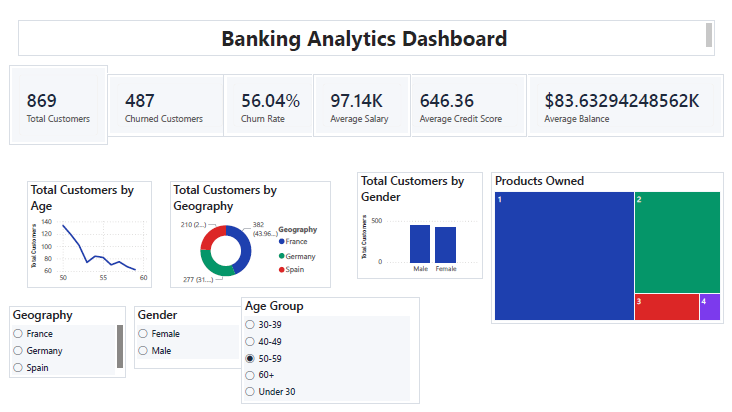

The page's visual inventory and layout, read from the dashboard file:
{"tool":"powerbi","page":{"name":"Executive Overview","canvas":[1280,720],"ordinal":0},"visuals":[{"type":"cardVisual","fields":{"Data":["BankCustomers.Total Customers"]},"box":[0,112,176,144],"z":0},{"type":"cardVisual","fields":{"Data":["BankCustomers.Churned Customers"]},"box":[176,128,224,112],"z":1000},{"type":"cardVisual","fields":{"Data":["BankCustomers.Churn Rate"]},"box":[384,128,176,112],"z":2000},{"type":"cardVisual","fields":{"Data":["BankCustomers.Average Balance"]},"box":[928,128,352,112],"z":3000},{"type":"cardVisual","fields":{"Data":["BankCustomers.Average Credit Score"]},"box":[704,128,224,112],"z":4000},{"type":"cardVisual","fields":{"Data":["BankCustomers.Average Salary"]},"box":[544,128,176,112],"z":5000},{"type":"lineChart","fields":{"Category":["BankCustomers.Age"],"Y":["BankCustomers.Total Customers"]},"box":[32,320,224,192],"z":6000},{"type":"donutChart","fields":{"Y":["BankCustomers.Total Customers"],"Category":["BankCustomers.Geography"]},"box":[288,320,288,192],"z":7000},{"type":"columnChart","fields":{"Y":["BankCustomers.Total Customers"],"Category":["BankCustomers.Gender"]},"box":[624,304,224,192],"z":8000},{"type":"listSlicer","fields":{"Values":["BankCustomers.Geography"]},"box":[0,544,208,128],"z":9000},{"type":"listSlicer","fields":{"Values":["BankCustomers.Gender"]},"box":[224,544,192,112],"z":10000},{"type":"listSlicer","fields":{"Values":["BankCustomers.Age Group"]},"box":[416,528,320,192],"z":11000},{"type":"treemap","title":"Products Owned","fields":{"Values":["BankCustomers.Total Customers"],"Group":["BankCustomers.NumOfProducts"]},"box":[864,304,416,272],"z":12000},{"type":"textbox","box":[16,32,1248,64],"z":12001}]}

Visuals, with their boxes in screenshot pixels (x1, y1, x2, y2), scaled from the page's 1280x720 canvas onto the 732x412 screenshot:
cardVisual - BankCustomers.Total Customers: box=[0, 64, 101, 146]
cardVisual - BankCustomers.Churned Customers: box=[101, 73, 229, 137]
cardVisual - BankCustomers.Churn Rate: box=[220, 73, 320, 137]
cardVisual - BankCustomers.Average Balance: box=[531, 73, 731, 137]
cardVisual - BankCustomers.Average Credit Score: box=[403, 73, 531, 137]
cardVisual - BankCustomers.Average Salary: box=[311, 73, 412, 137]
lineChart - BankCustomers.Age x BankCustomers.Total Customers: box=[18, 183, 146, 293]
donutChart - BankCustomers.Total Customers x BankCustomers.Geography: box=[165, 183, 329, 293]
columnChart - BankCustomers.Total Customers x BankCustomers.Gender: box=[357, 174, 485, 284]
listSlicer - BankCustomers.Geography: box=[0, 311, 119, 385]
listSlicer - BankCustomers.Gender: box=[128, 311, 238, 375]
listSlicer - BankCustomers.Age Group: box=[238, 302, 421, 411]
"Products Owned" treemap: box=[494, 174, 731, 330]
textbox: box=[9, 18, 723, 55]
